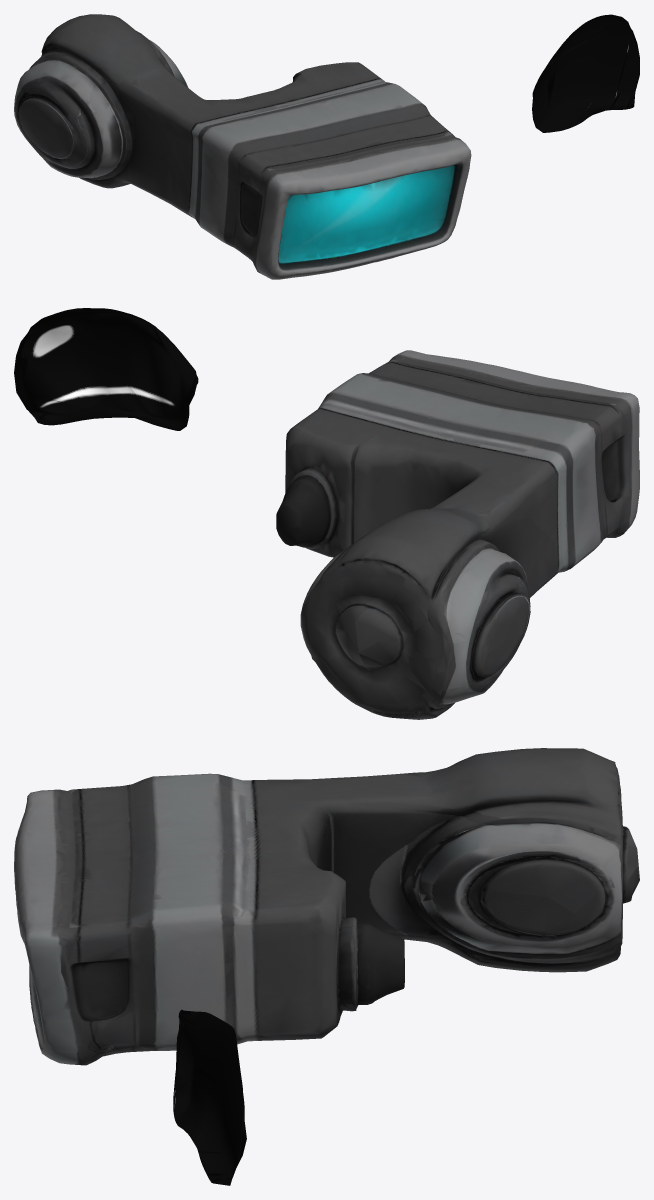
File: Scanner Teal.glb
3 renders of one model, top to bottom at view 1: azimuth 30°, elevation 25°; view 2: azimuth 150°, elevation 25°; view 3: azimuth 270°, elevation 25°, orthographic. The views are drawn at different scales.
Visible parts, largest first — view 1: Mesh_0.003; view 2: Mesh_0.003; view 3: Mesh_0.003.
Boxes of the visible parts, x1,y1,x2,y2 form: Mesh_0.003: [14, 14, 639, 279]; Mesh_0.003: [14, 308, 639, 719]; Mesh_0.003: [14, 748, 639, 1185].
Bounding box in the file's own units: 0.5168 × 0.1423 × 0.3922.
Materials: 2 (2 with a texture image).
